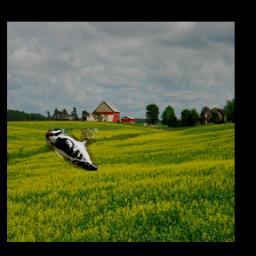Woodpecker: (46, 129, 99, 172)
